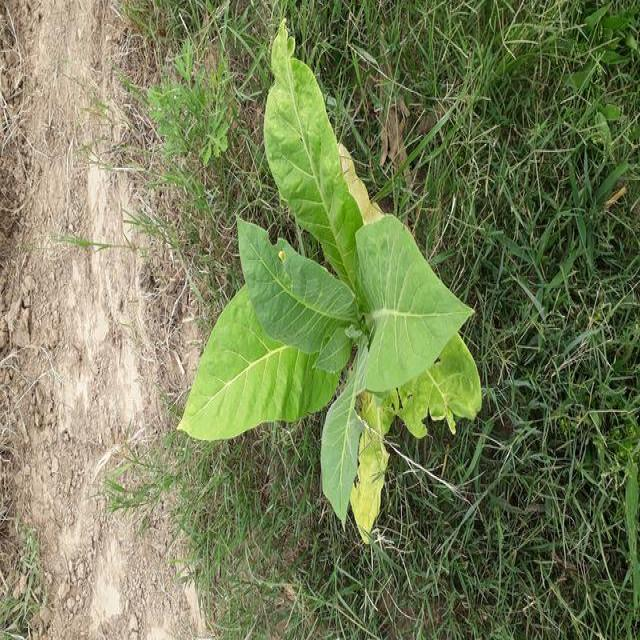crop: (192, 23, 482, 534)
